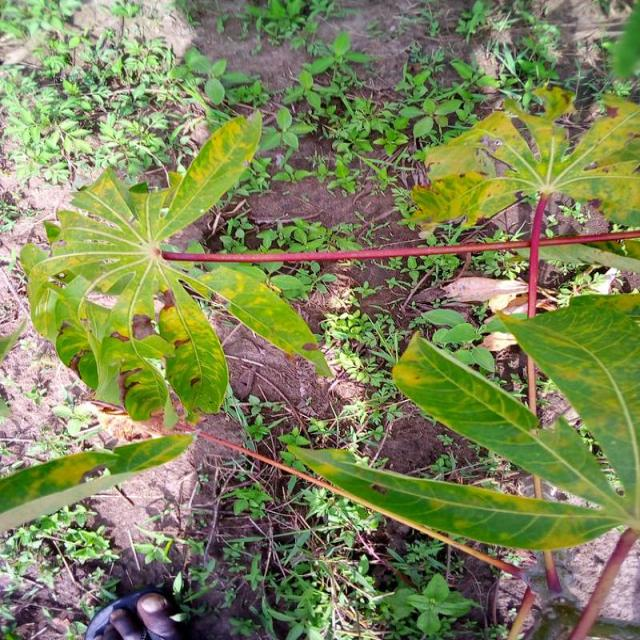cassava leaf: (19, 108, 333, 424), (390, 329, 626, 522), (284, 439, 623, 552), (494, 290, 640, 527), (0, 430, 194, 533), (185, 261, 334, 379)
